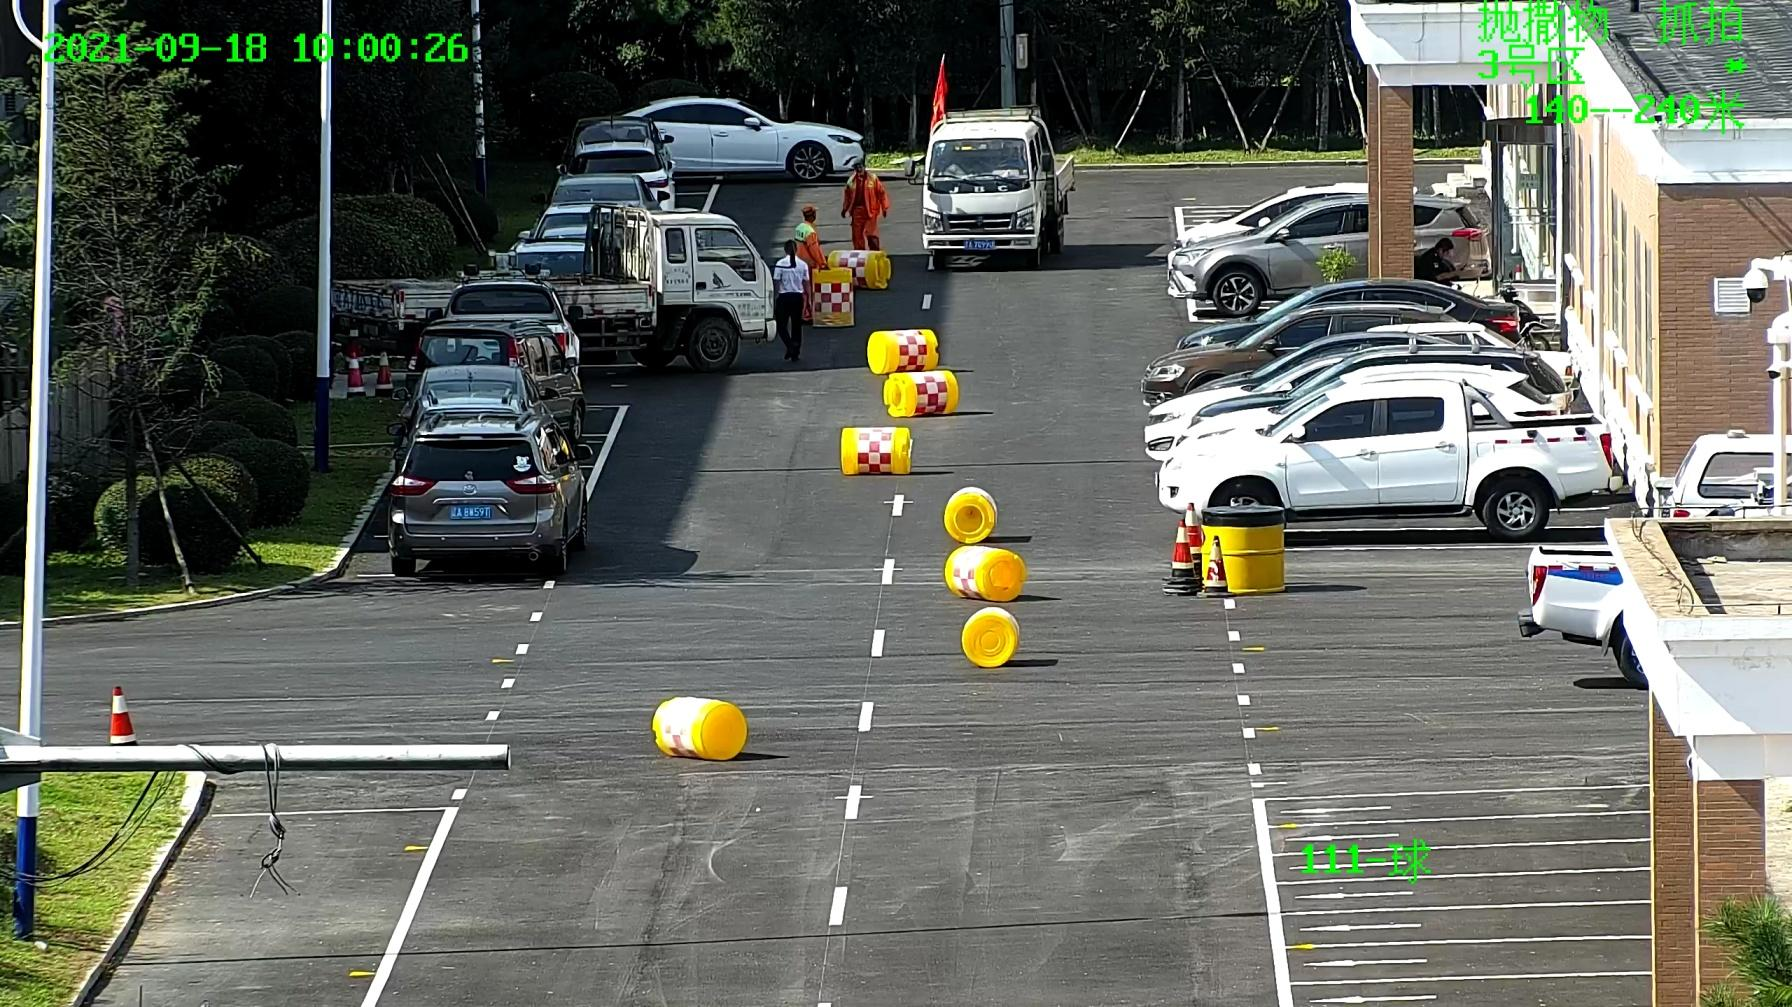cone_barrel: (654, 697, 741, 760), (945, 545, 1025, 600), (960, 604, 1018, 668), (881, 369, 958, 417), (838, 428, 914, 475), (866, 330, 935, 372), (942, 487, 994, 540), (807, 268, 852, 326), (828, 247, 892, 286)
